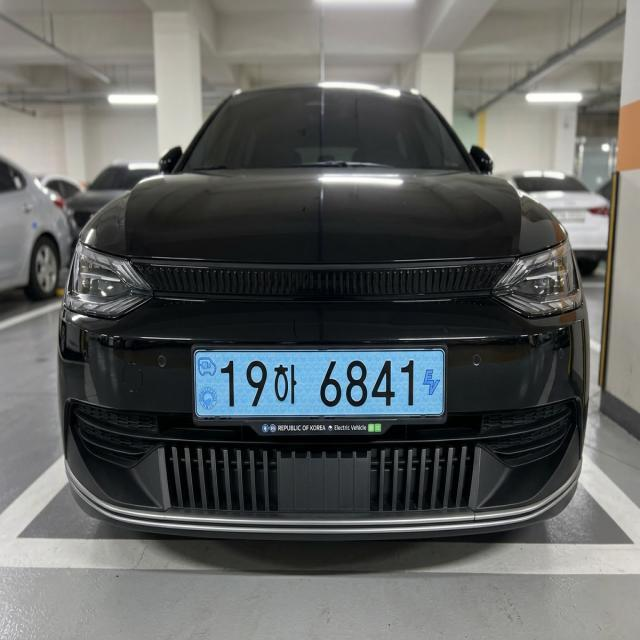car: (178, 334, 465, 470)
carev: (195, 351, 219, 419), (418, 354, 442, 410)
